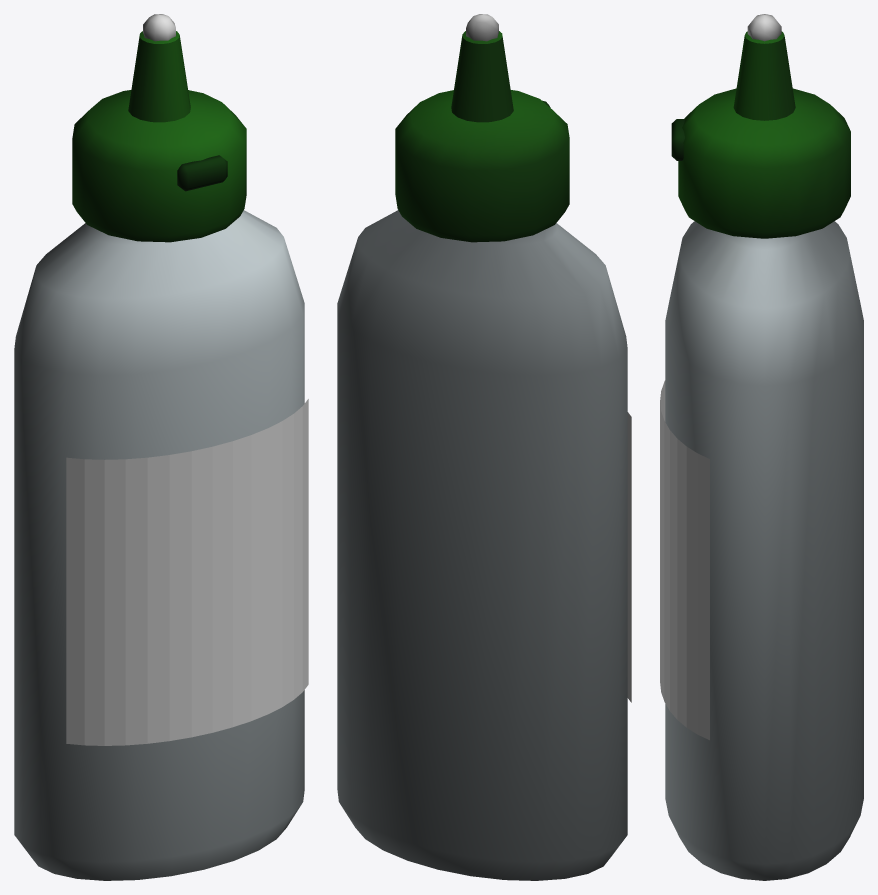
The model's file is syrup_bottle_printed.fbx.
3 views of the same model, side by side, from view 1: azimuth 30°, elevation 25°; view 2: azimuth 150°, elevation 25°; view 3: azimuth 270°, elevation 25° (orthographic).
Visible parts, largest first — view 1: Bottle, Label, Cap; view 2: Bottle, Cap, Label; view 3: Bottle, Cap, Label.
Boxes of the visible parts, <box> form: Bottle: <box>14,210,304,880</box>; Label: <box>66,399,308,745</box>; Cap: <box>72,14,246,242</box>; Bottle: <box>337,210,627,880</box>; Cap: <box>395,14,569,242</box>; Label: <box>627,412,631,702</box>; Bottle: <box>665,221,863,880</box>; Cap: <box>671,14,850,238</box>; Label: <box>660,380,709,740</box>.
Size of the model in its own units: 0.07 by 0.201 by 0.046.
